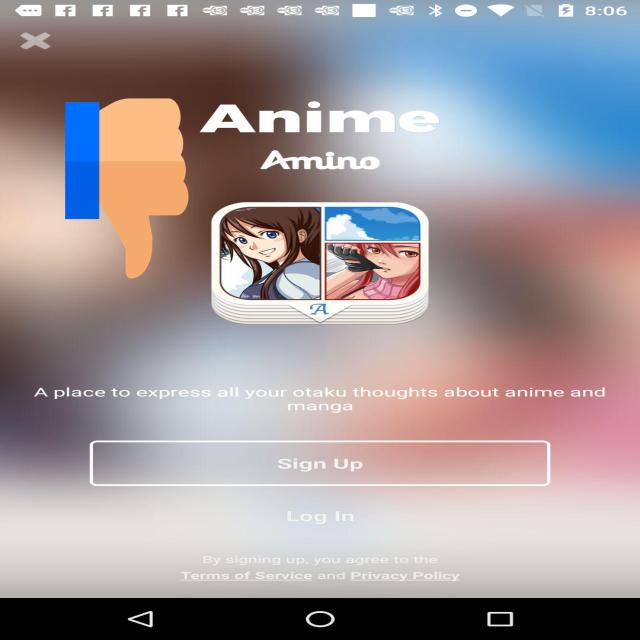obstruction: (65, 94, 189, 283)
